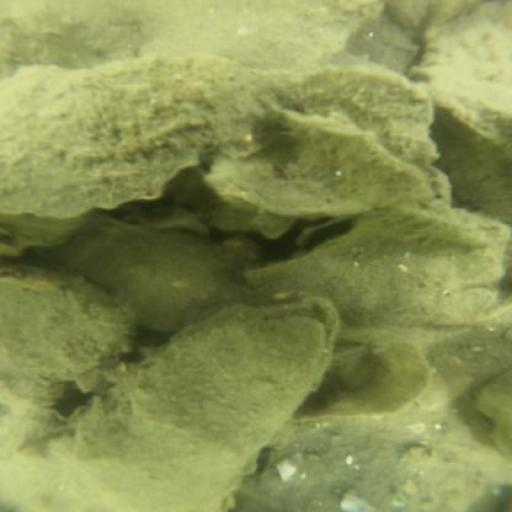Oyster-Closed: (72, 312, 333, 512), (1, 57, 302, 223), (250, 205, 508, 343), (277, 67, 451, 206), (2, 261, 132, 425), (56, 223, 241, 328), (235, 440, 498, 512), (125, 1, 393, 66), (403, 4, 512, 116)
Oyster-Open: (296, 217, 355, 254)
